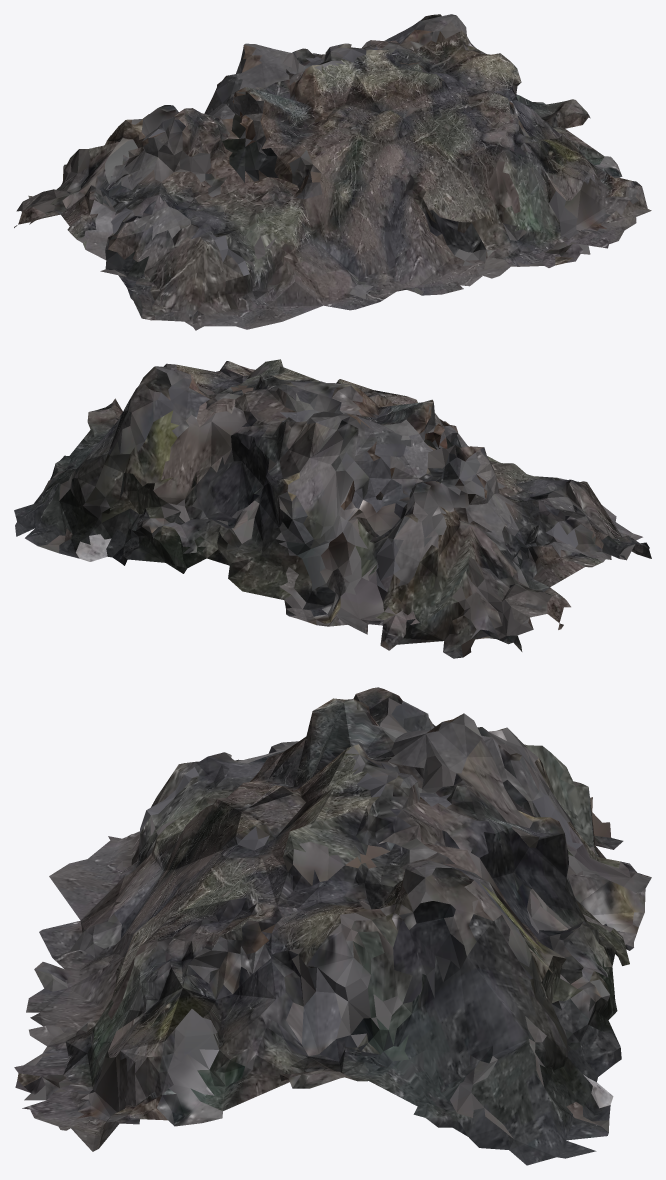
Rendered from Sludge.fbx.
The picture shows the model from 3 angles, top to bottom: view 1: azimuth 30°, elevation 25°; view 2: azimuth 150°, elevation 25°; view 3: azimuth 270°, elevation 25°; orthographic projection. The views are drawn at different scales.
Parts seen in each view (by area): view 1: Sludge; view 2: Sludge; view 3: Sludge.
Part boxes in pixels (left/top/right/bottom): Sludge: left=14, top=14, right=651, bottom=330; Sludge: left=14, top=359, right=651, bottom=658; Sludge: left=14, top=687, right=651, bottom=1165.
Size of the model in its own units: 334 by 99.04 by 232.
1 material, 1 textured.
